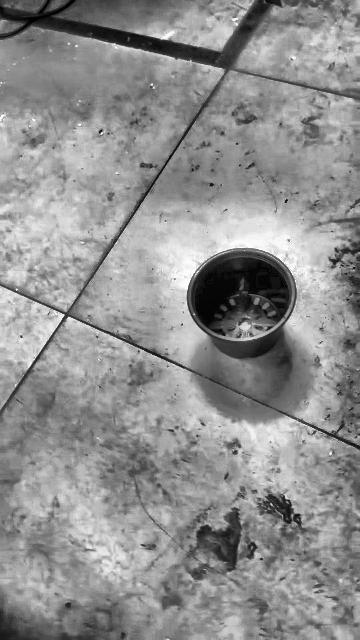pot: (187, 249, 296, 358)
